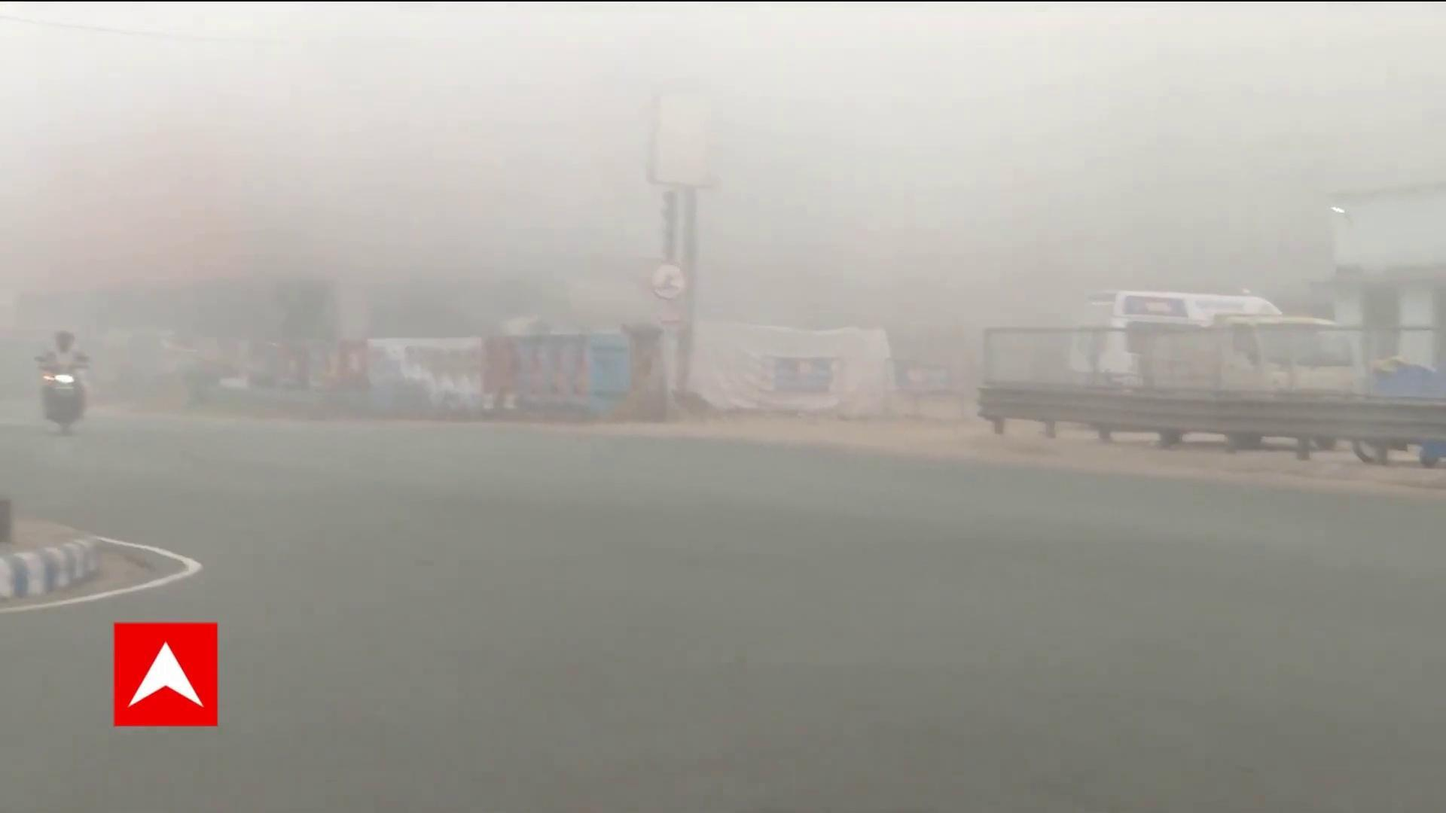Bike: (34, 323, 96, 441)
